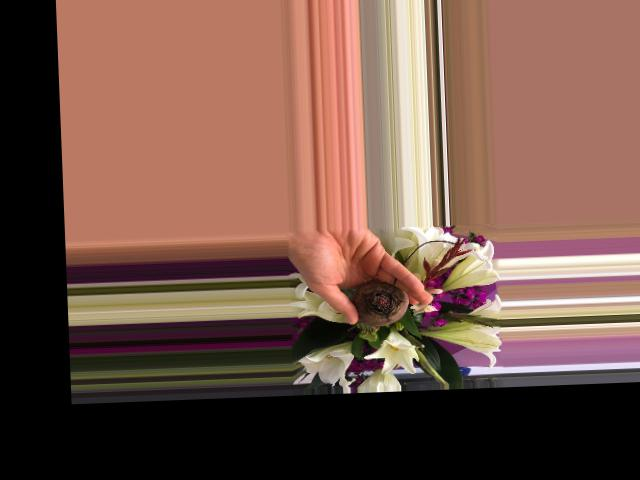beet: (352, 278, 411, 327)
